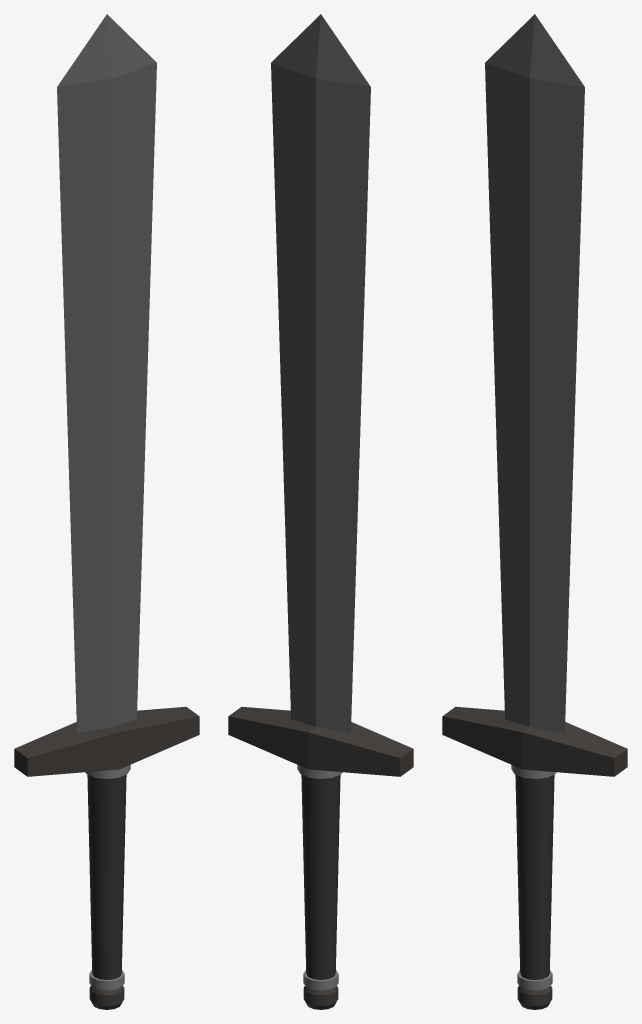
The model's file is Long Sword.fbx.
The picture shows the model from 3 angles, left to right: view 1: azimuth 30°, elevation 25°; view 2: azimuth 150°, elevation 25°; view 3: azimuth 330°, elevation 25°; orthographic projection.
Parts seen in each view (by area): view 1: Long Sword_Baked; view 2: Long Sword_Baked; view 3: Long Sword_Baked.
Boxes of the visible parts, <box> form: Long Sword_Baked: <box>14,14,199,1009</box>; Long Sword_Baked: <box>228,14,413,1009</box>; Long Sword_Baked: <box>442,14,627,1009</box>.
Bounding box in the file's own units: 17.42 × 95.8 × 4.36.
1 material, 1 textured.
